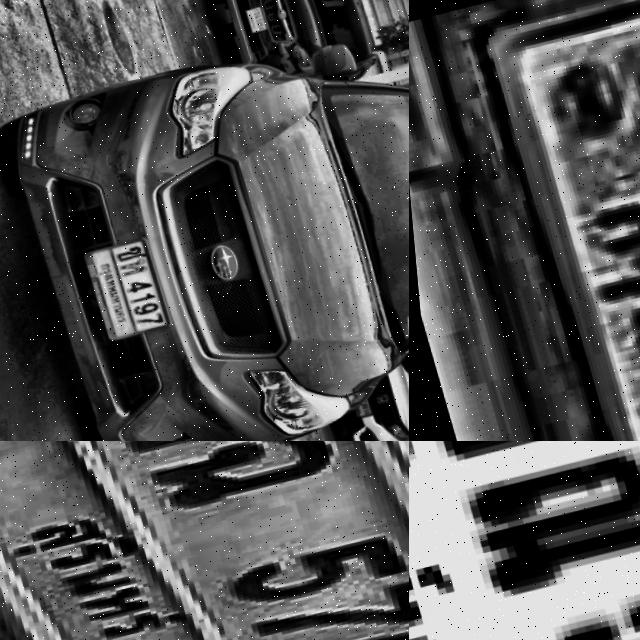license-plate: (455, 0, 640, 441), (0, 441, 409, 640), (409, 441, 640, 640), (76, 240, 167, 347), (242, 10, 267, 40), (339, 400, 364, 426)
